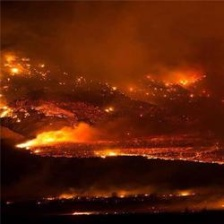fire: (12, 122, 224, 215), (1, 53, 217, 119)
